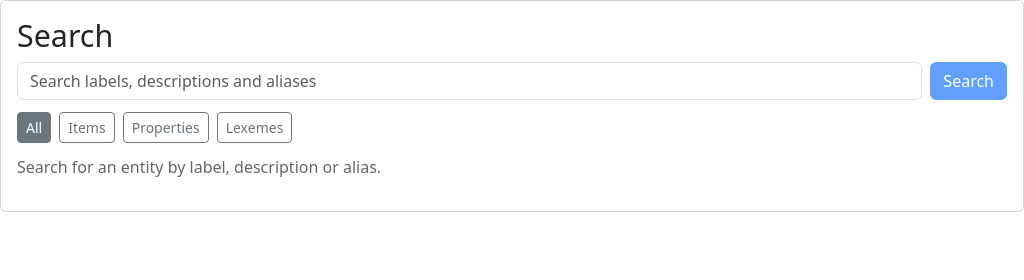
Scenario: SearchView › falls back to the entity ID when an entity has no label
The width and height of the screenshot is (1024, 280).
Type "q42" into the search field with test id "search-input" at (470,80), box [17,62,922,100]
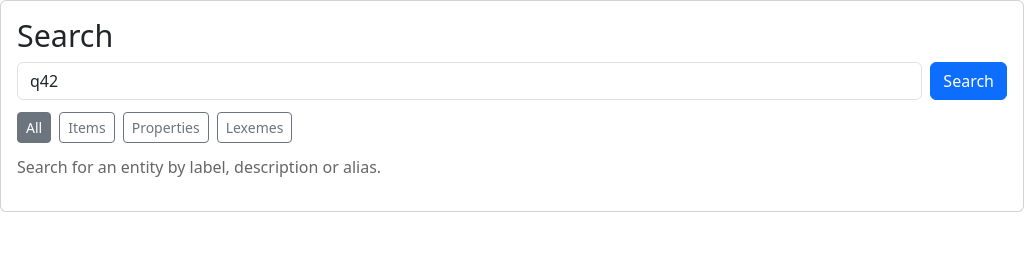
Submit the form with test id "search-form", box [17,62,1007,100]
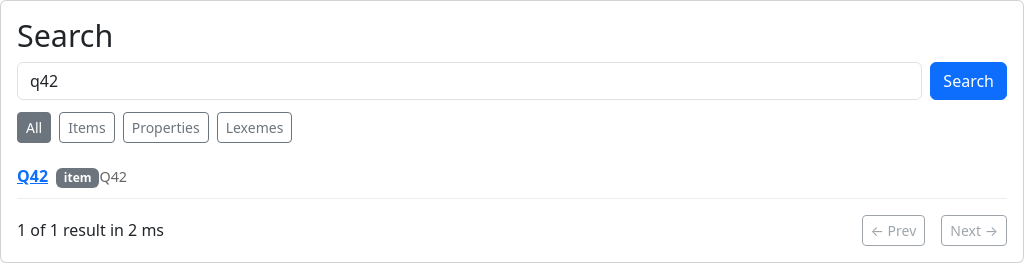
Result: the link with test id "search-result-link" reads "Q42" at [17,165,48,187]
